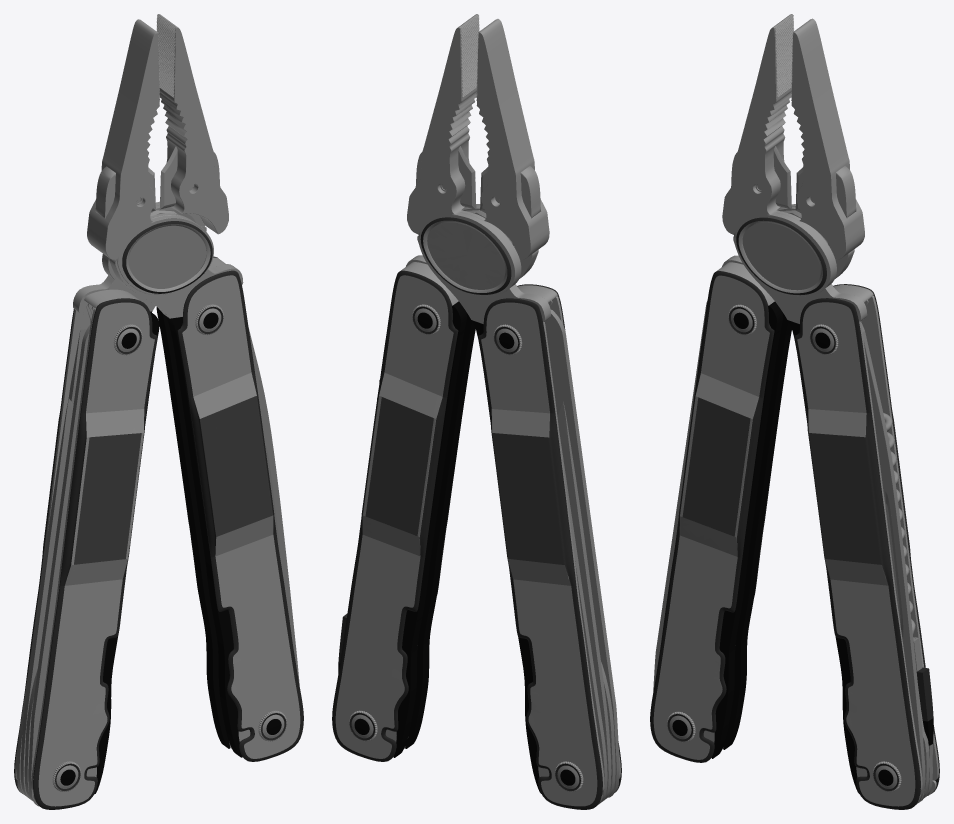
Rendered from tool.glb.
3 views of the same model, side by side, from view 1: azimuth 30°, elevation 25°; view 2: azimuth 150°, elevation 25°; view 3: azimuth 330°, elevation 25° (orthographic).
Visible parts, largest first — view 1: Object_11, Object_12; view 2: Object_11, Object_12; view 3: Object_11, Object_12.
Part boxes in pixels (x1,y1,x2,y2): Object_11: (15, 14, 300, 806); Object_12: (14, 210, 303, 809); Object_11: (335, 14, 620, 806); Object_12: (332, 217, 621, 809); Object_11: (653, 14, 938, 806); Object_12: (650, 217, 939, 809).
Bounding box in the file's own units: 0.625 × 1.66 × 0.1092.
Materials: 2 (2 with a texture image).
